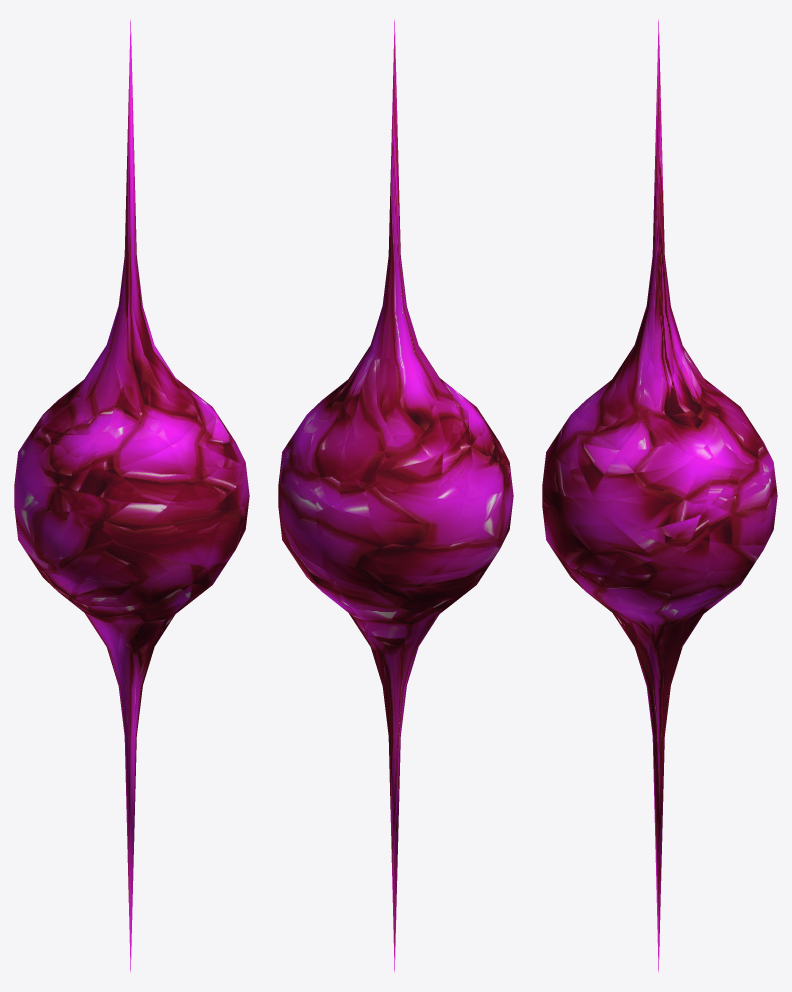
File: Boss - Center.FBX
The picture shows the model from 3 angles, left to right: view 1: azimuth 30°, elevation 25°; view 2: azimuth 150°, elevation 25°; view 3: azimuth 270°, elevation 25°; orthographic projection.
Visible parts, largest first — view 1: Sphere001; view 2: Sphere001; view 3: Sphere001.
Boxes of the visible parts, bbox=[...] form: Sphere001: bbox=[14, 19, 249, 972]; Sphere001: bbox=[278, 19, 513, 972]; Sphere001: bbox=[542, 19, 777, 972].
Size of the model in its own units: 128 by 127 by 574.
Materials: 1 (1 with a texture image).
